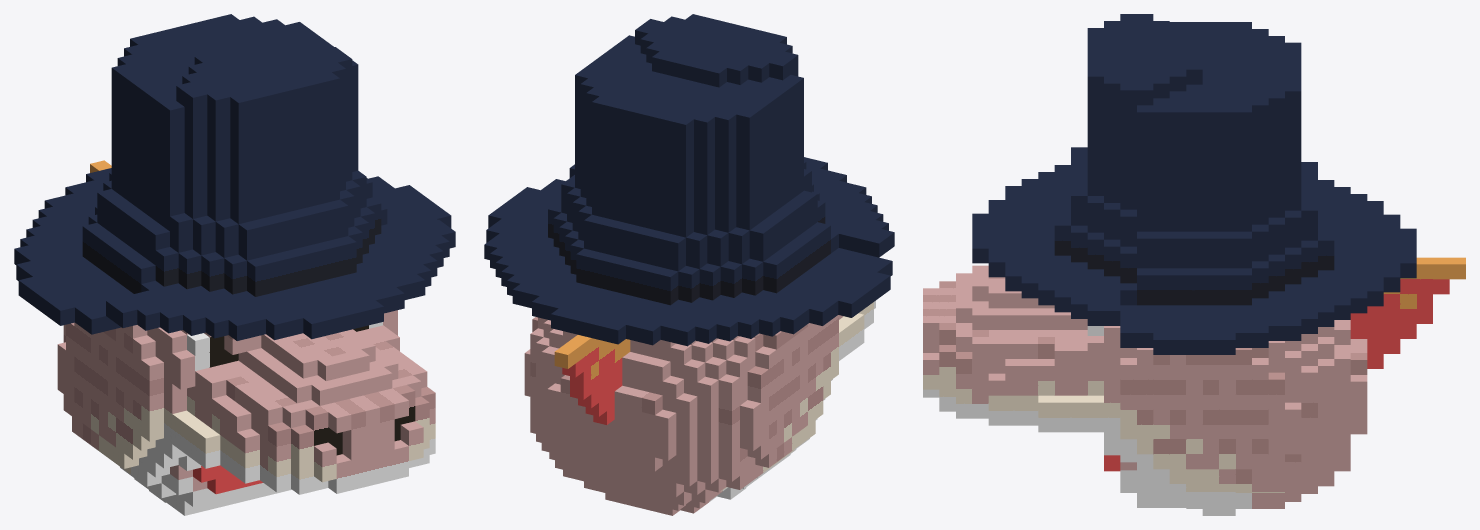
The model's file is top hat_rainbow shades.gltf.
3 renders of one model, left to right at view 1: azimuth 30°, elevation 25°; view 2: azimuth 150°, elevation 25°; view 3: azimuth 270°, elevation 25°, orthographic. The views are drawn at different scales.
Parts seen in each view (by area): view 1: C53_H_TopH_CoolD_3D_RBShade-Mesh; view 2: C53_H_TopH_CoolD_3D_RBShade-Mesh; view 3: C53_H_TopH_CoolD_3D_RBShade-Mesh.
Part boxes in pixels (x1=…): C53_H_TopH_CoolD_3D_RBShade-Mesh: x1=14, y1=14, x2=455, y2=515; C53_H_TopH_CoolD_3D_RBShade-Mesh: x1=484, y1=14, x2=894, y2=515; C53_H_TopH_CoolD_3D_RBShade-Mesh: x1=923, y1=14, x2=1465, y2=515.
Size of the model in its own units: 27 by 29 by 33.
Materials: 1 (1 with a texture image).
